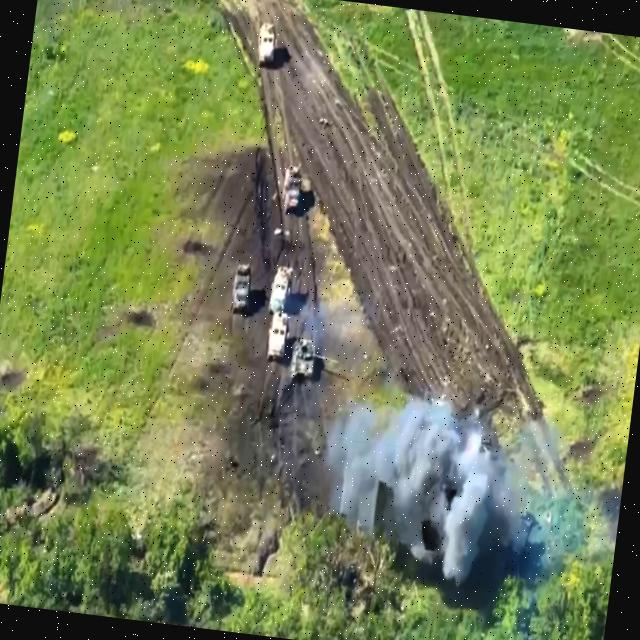MBT: (290, 337, 343, 389)
Vehicle: (280, 163, 307, 219), (267, 264, 296, 316), (229, 263, 256, 317), (266, 313, 292, 365), (255, 20, 281, 69)
